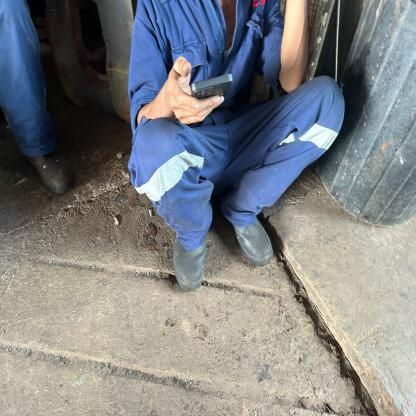bota: (165, 209, 220, 310), (19, 122, 77, 214), (220, 196, 278, 282)
